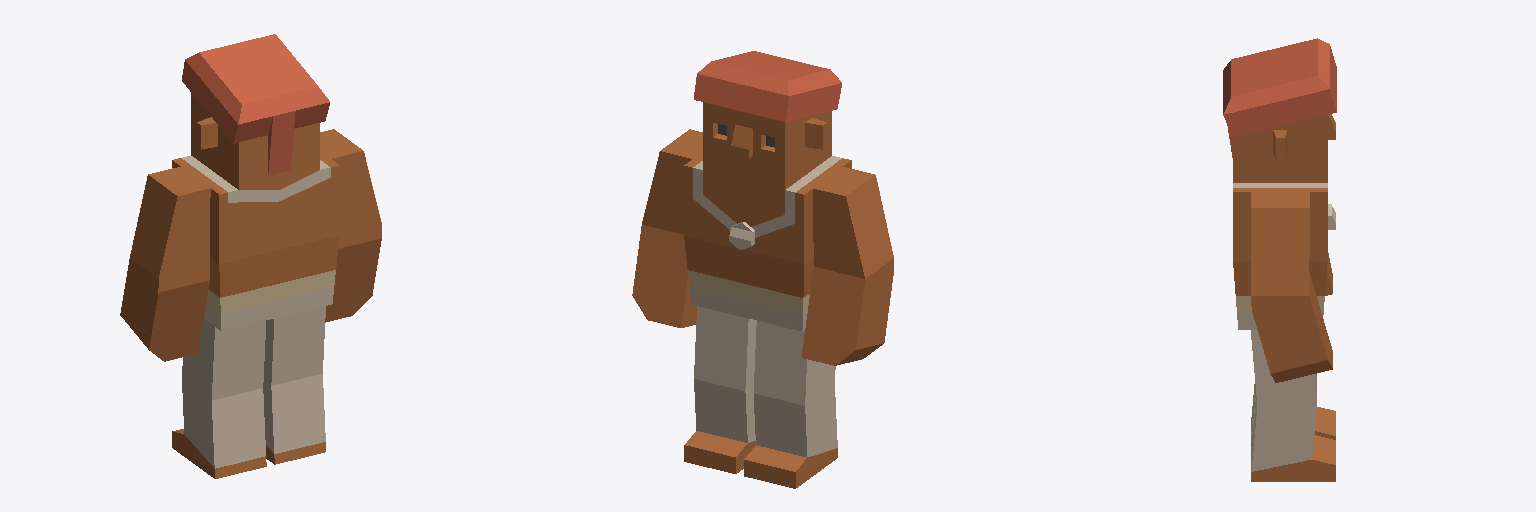
The model's file is pirate_crew.obj.
3 views of the same model, side by side, from view 1: azimuth 30°, elevation 25°; view 2: azimuth 150°, elevation 25°; view 3: azimuth 270°, elevation 25° (orthographic).
Parts seen in each view (by area): view 1: body 1, Group 143, armLeft 1, legLeft 1, legRight 1, armRight 1; view 2: body 1, Group 143, armLeft 1, legLeft 1, legRight 1, armRight 1; view 3: Group 143, armRight 1, legRight 1, body 1, legLeft 1.
Boxes of the visible parts, box(x1,y1,x2,y2) form: body 1: box(172, 151, 339, 330); Group 143: box(182, 34, 329, 189); armLeft 1: box(120, 167, 210, 361); legLeft 1: box(172, 319, 266, 478); legRight 1: box(263, 306, 325, 464); armRight 1: box(320, 129, 381, 322); body 1: box(684, 152, 851, 331); Group 143: box(694, 51, 841, 189); armLeft 1: box(802, 167, 893, 365); legLeft 1: box(744, 321, 837, 488); legRight 1: box(684, 306, 756, 473); armRight 1: box(632, 129, 702, 327); Group 143: box(1223, 38, 1336, 182); armRight 1: box(1251, 192, 1332, 382); legRight 1: box(1251, 330, 1335, 481); body 1: box(1233, 183, 1335, 329); legLeft 1: box(1251, 374, 1335, 445).
Size of the model in its own units: 6.24 by 10.62 by 2.75.